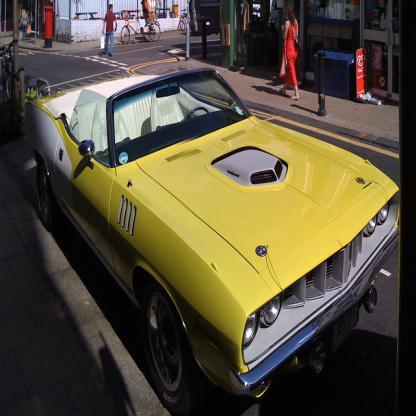Car: (38, 70, 395, 405)
